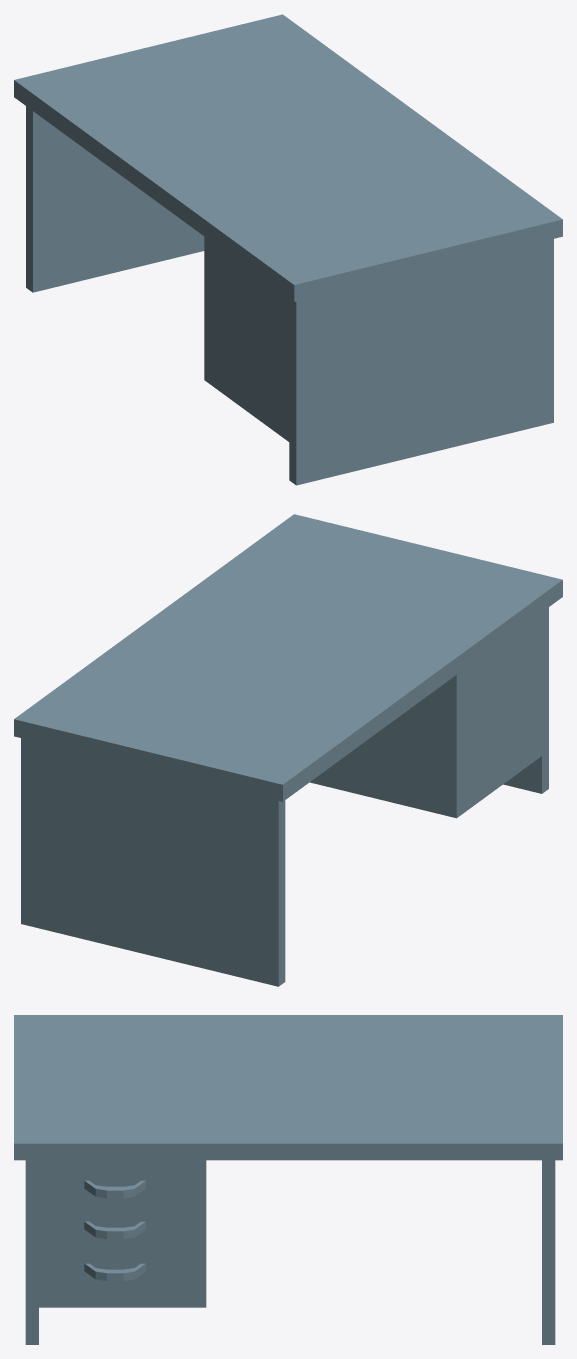
Rendered from office_table.fbx.
The picture shows the model from 3 angles, top to bottom: view 1: azimuth 30°, elevation 25°; view 2: azimuth 150°, elevation 25°; view 3: azimuth 270°, elevation 25°; orthographic projection. The views are drawn at different scales.
Visible parts, largest first — view 1: office_table; view 2: office_table; view 3: office_table.
Boxes of the visible parts, x1,y1,x2,y2 form: office_table: (14, 14, 562, 485); office_table: (14, 514, 562, 986); office_table: (14, 1015, 562, 1344).
Size of the model in its own units: 115 by 79.25 by 195.
